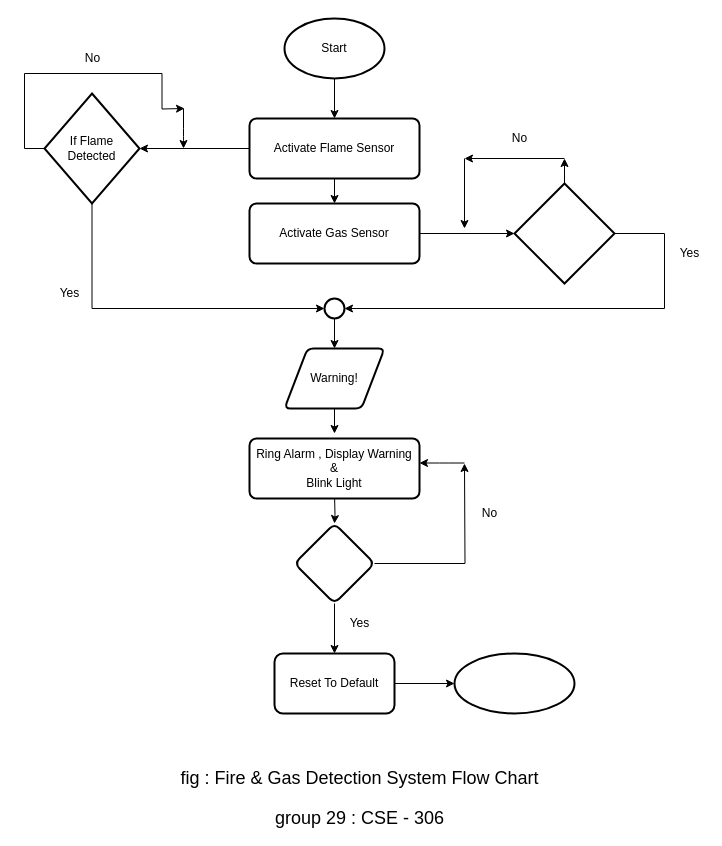
Some shapes in this 722 by 846 pixel diagram are drawn without their labels. Here are the shapes that lost their labels. From the top down, the centre of each, then its label:
(x=564, y=233): If Gas Detected
(x=334, y=563): If Both Sensors Are Off
(x=514, y=683): Finish
